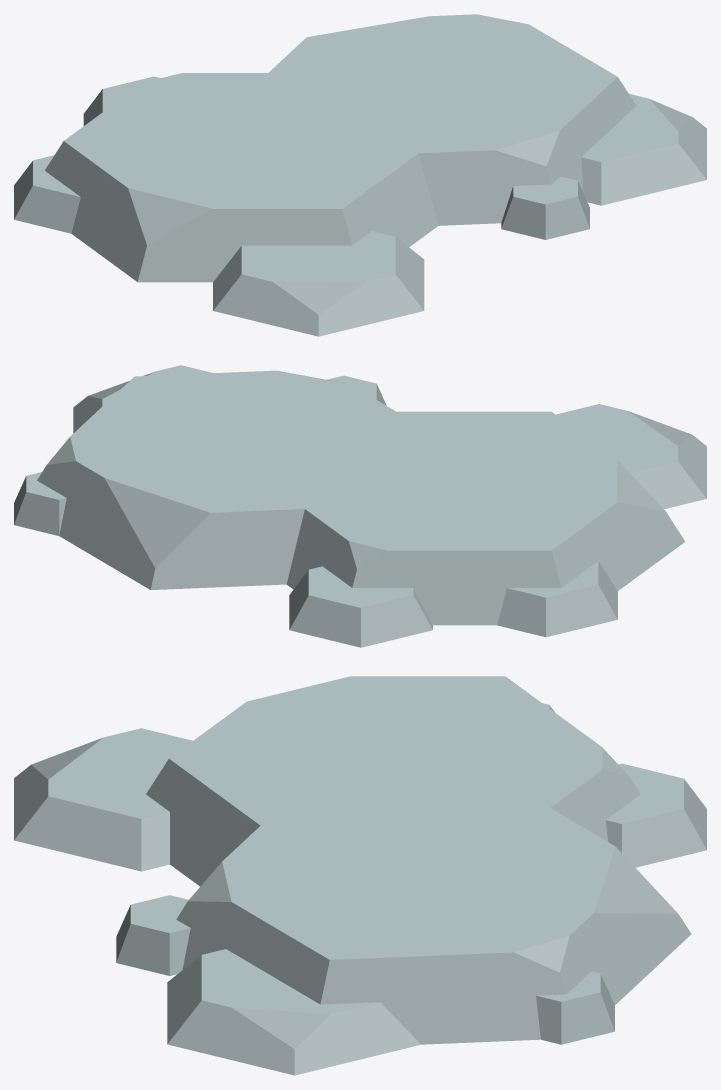
Rendered from platform_stone.glb.
3 views of the same model, one above another, from view 1: azimuth 30°, elevation 25°; view 2: azimuth 150°, elevation 25°; view 3: azimuth 270°, elevation 25° (orthographic). The views are drawn at different scales.
Visible parts, largest first — view 1: platform_stone; view 2: platform_stone; view 3: platform_stone.
Boxes of the visible parts, bbox=[...] form: platform_stone: bbox=[14, 14, 706, 336]; platform_stone: bbox=[14, 365, 706, 647]; platform_stone: bbox=[14, 676, 706, 1075].
Bounding box in the file's own units: 0.8932 × 0.0825 × 0.7239.
